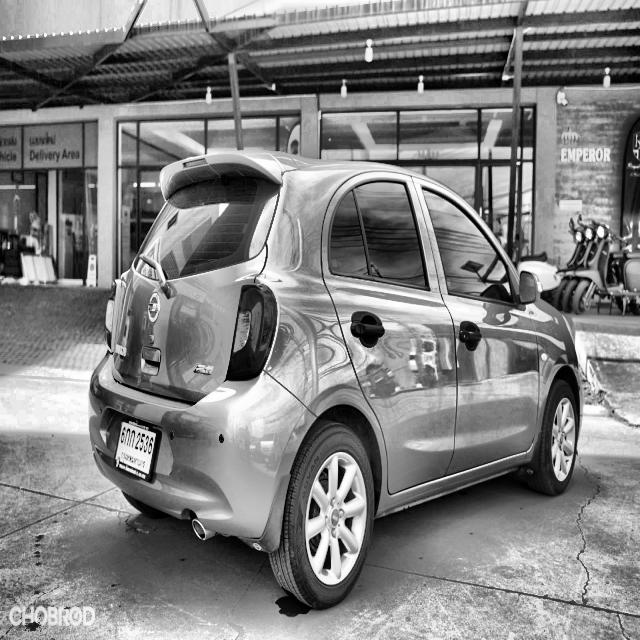license-plate: (110, 409, 166, 492)
